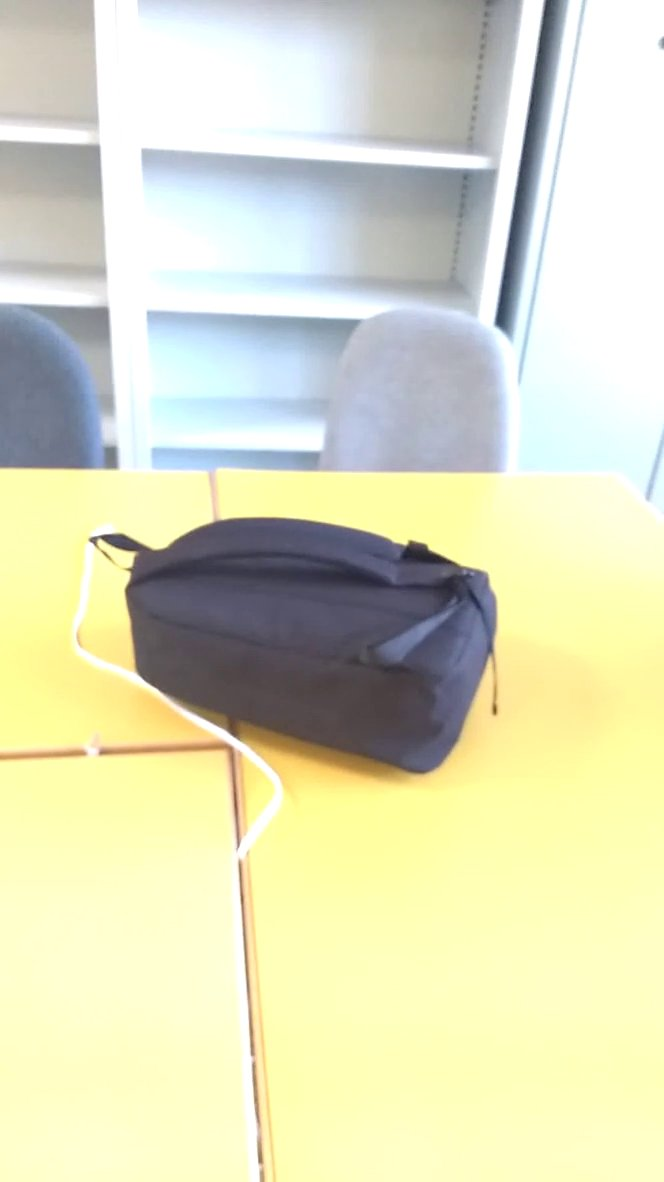bag: (77, 512, 515, 784)
chair: (313, 294, 553, 487)
